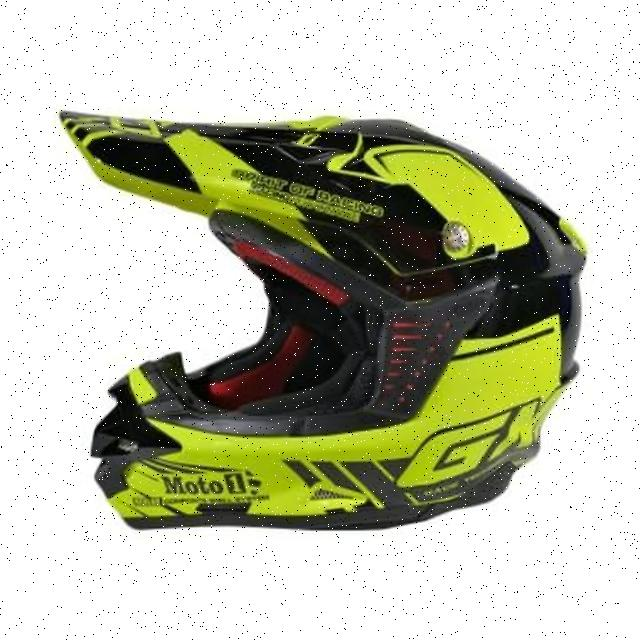Helmet: (59, 112, 587, 530)
